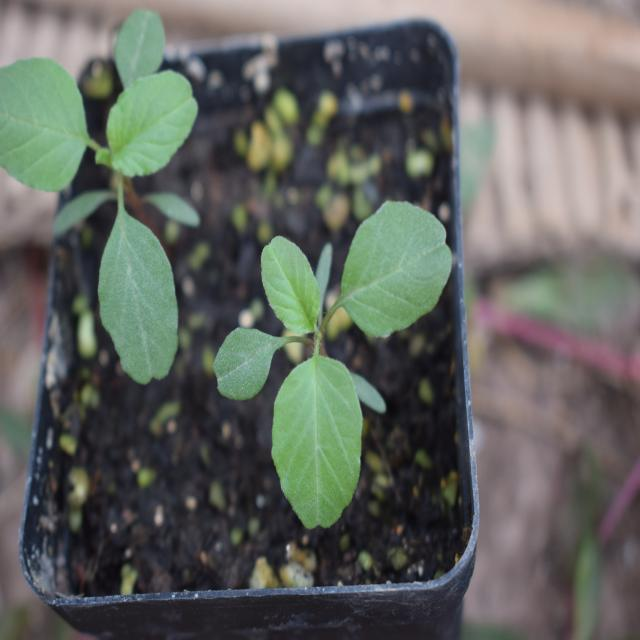pigweed: (223, 203, 456, 510), (0, 37, 203, 372)
